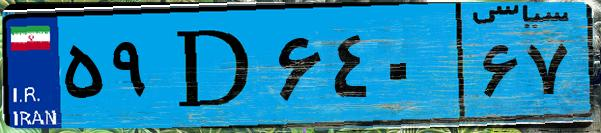0: (385, 28, 445, 110)
4: (330, 28, 385, 110)
5: (57, 26, 110, 100)
6: (270, 28, 330, 110), (475, 38, 525, 113)
7: (525, 38, 570, 115)
9: (110, 28, 158, 98)
D: (158, 12, 270, 120)
